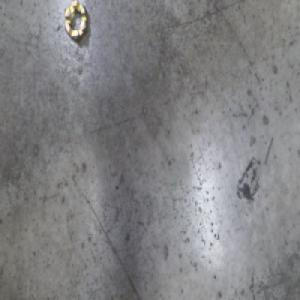Nut: (63, 1, 89, 44)
